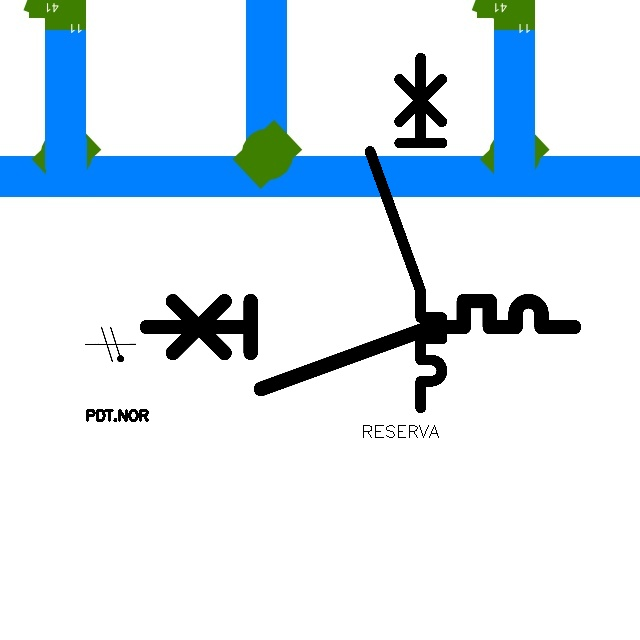interruptor_termomagnetico: (135, 290, 585, 400), (361, 49, 451, 417)
